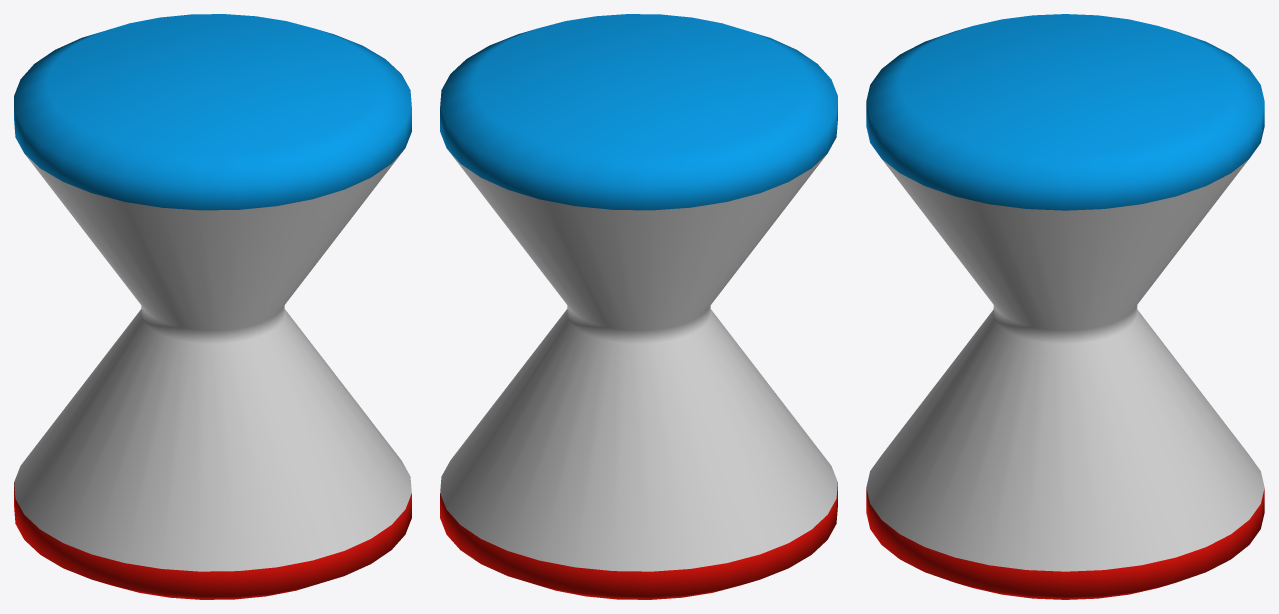
Rendered from hourglass_debug.fbx.
3 renders of one model, left to right at view 1: azimuth 30°, elevation 25°; view 2: azimuth 150°, elevation 25°; view 3: azimuth 270°, elevation 25°, orthographic.
Parts seen in each view (by area): view 1: Cylinder; view 2: Cylinder; view 3: Cylinder.
Part boxes in pixels (x1,y1,x2,y2): Cylinder: (14,14,411,599); Cylinder: (440,14,837,599); Cylinder: (866,14,1264,599).
Bounding box in the file's own units: 200 × 247 × 200.
